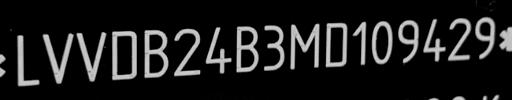letter: (40, 28, 74, 88), (170, 25, 204, 83), (106, 27, 140, 85), (76, 28, 108, 86), (288, 22, 322, 76), (202, 23, 234, 79), (140, 25, 170, 83), (444, 13, 476, 65), (13, 32, 41, 87), (471, 10, 499, 64), (322, 19, 350, 73), (233, 24, 261, 78), (396, 17, 422, 71), (260, 22, 286, 76), (422, 16, 446, 69), (370, 20, 394, 71), (350, 18, 370, 70)
